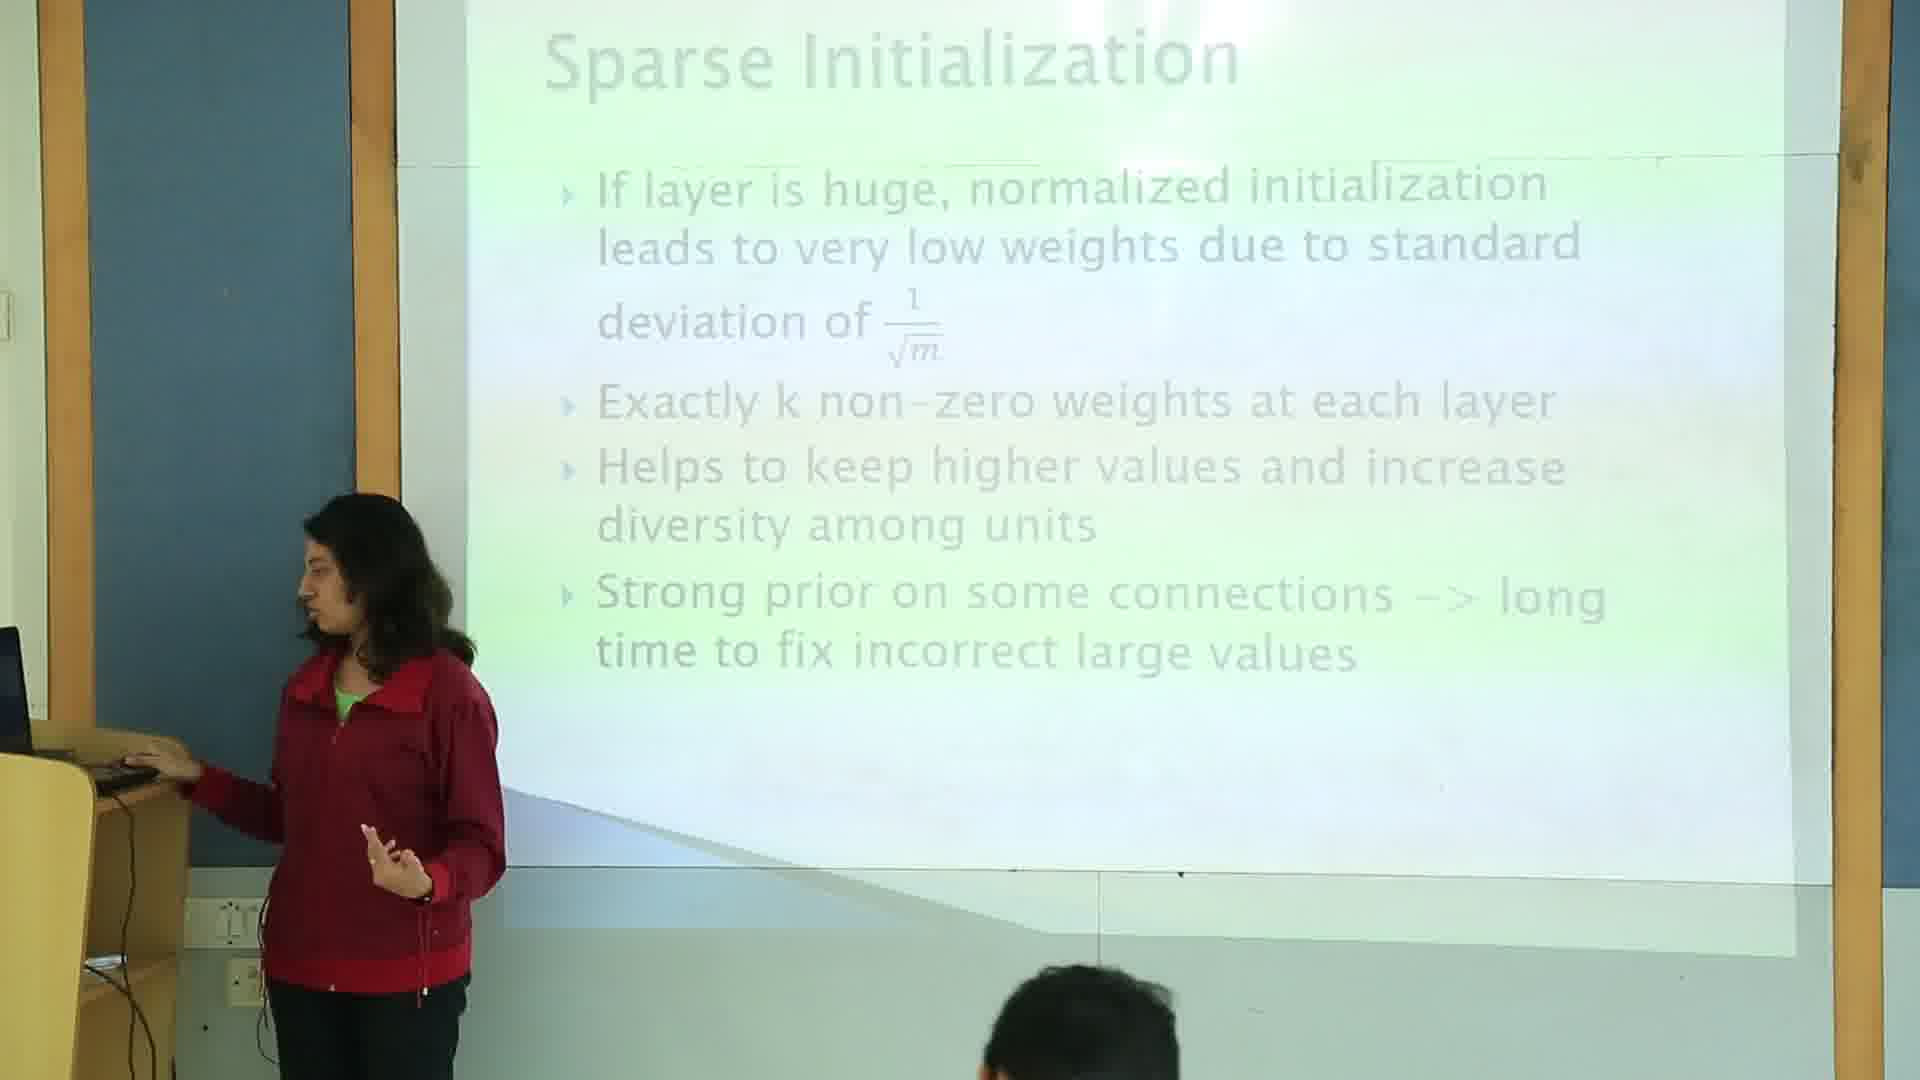slide: (465, 1, 1799, 956)
